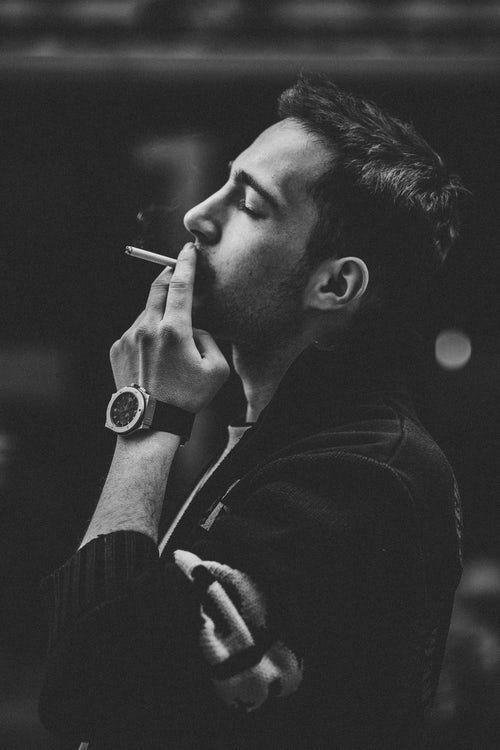cigarette: (124, 246, 178, 268)
